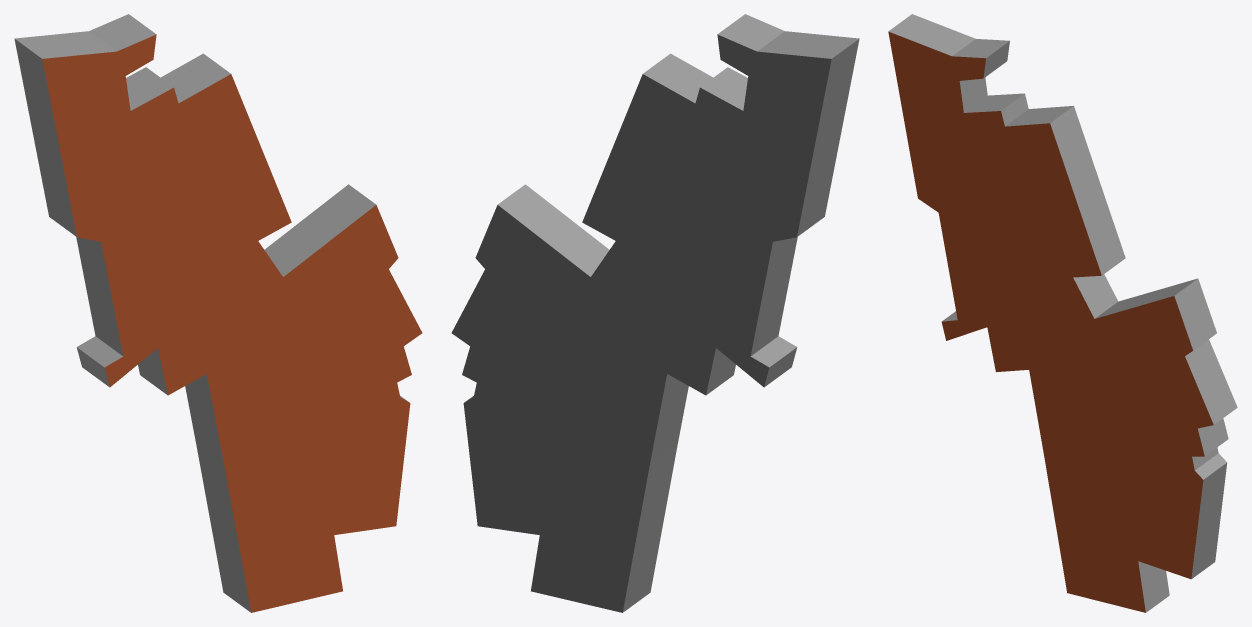
File: construction_6611_assumed_A_Casa_h6m.obj
The picture shows the model from 3 angles, left to right: view 1: azimuth 30°, elevation 25°; view 2: azimuth 150°, elevation 25°; view 3: azimuth 330°, elevation 25°; orthographic projection. The views are drawn at different scales.
Visible parts, largest first — view 1: construction_6611_assumed_A_Casa; view 2: construction_6611_assumed_A_Casa; view 3: construction_6611_assumed_A_Casa.
Boxes of the visible parts, box(x1,y1,x2,y2) form: construction_6611_assumed_A_Casa: box(14, 14, 422, 612); construction_6611_assumed_A_Casa: box(451, 14, 859, 612); construction_6611_assumed_A_Casa: box(888, 14, 1237, 612).
Bounding box in the file's own units: 47.24 × 71.9 × 6.
